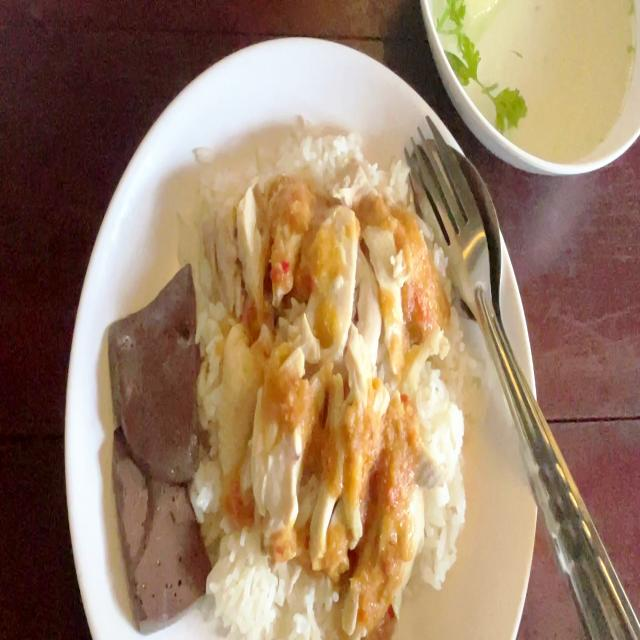boiled_chicken: (213, 196, 434, 591)
boiled_chicken_blood_jelly: (106, 259, 210, 619), (106, 424, 200, 626)
chicken_rice: (117, 137, 471, 640)
